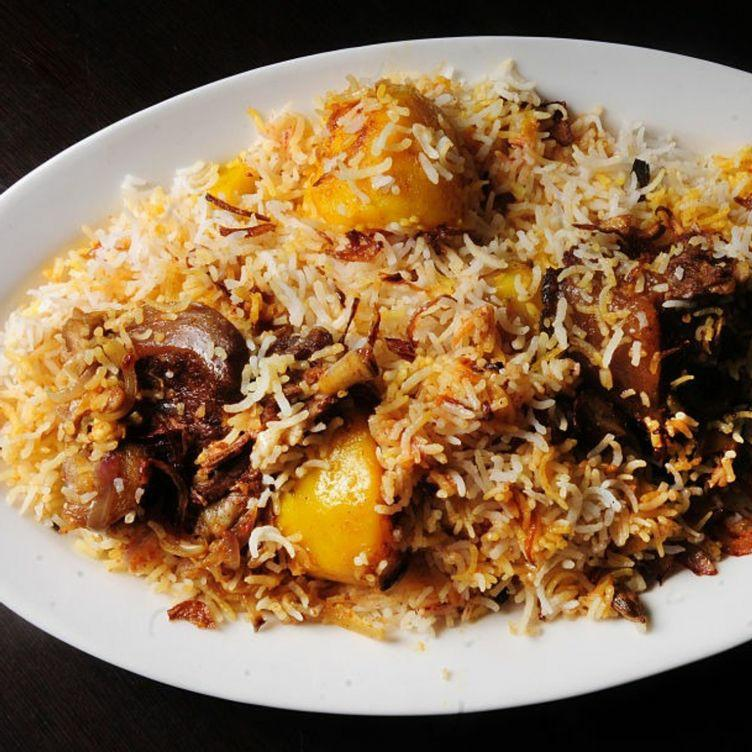Biryani: (0, 59, 752, 633)
